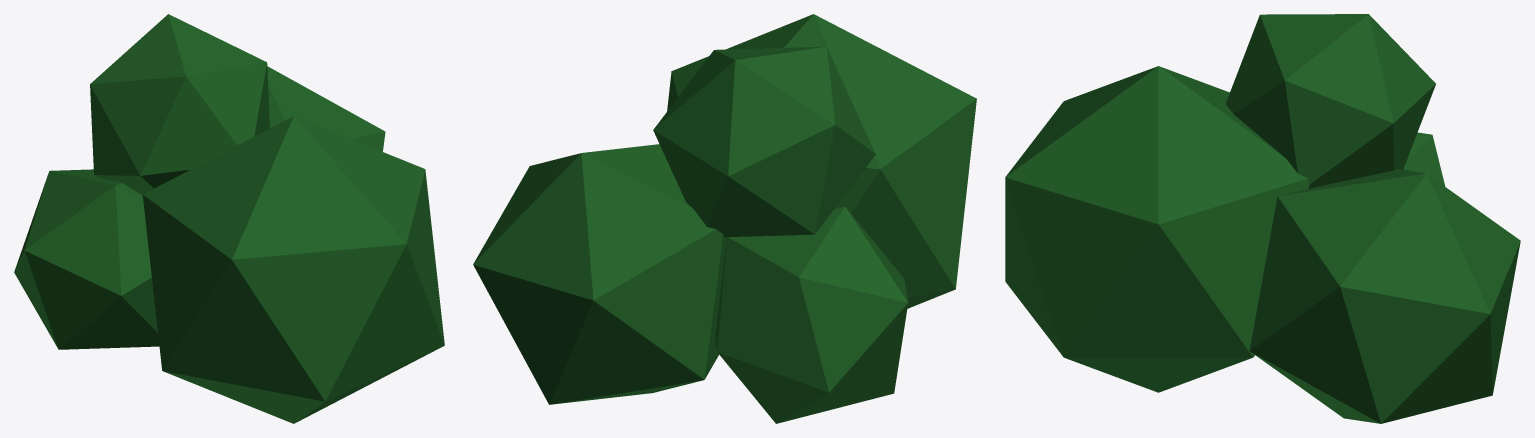
Rendered from Bush_01.fbx.
3 views of the same model, side by side, from view 1: azimuth 30°, elevation 25°; view 2: azimuth 150°, elevation 25°; view 3: azimuth 270°, elevation 25° (orthographic). The views are drawn at different scales.
Visible parts, largest first — view 1: Bush_01; view 2: Bush_01; view 3: Bush_01.
Boxes of the visible parts, x1,y1,x2,y2 form: Bush_01: (14, 14, 444, 423); Bush_01: (473, 14, 976, 423); Bush_01: (1005, 14, 1520, 423).
Bounding box in the file's own units: 242 × 223 × 286.
